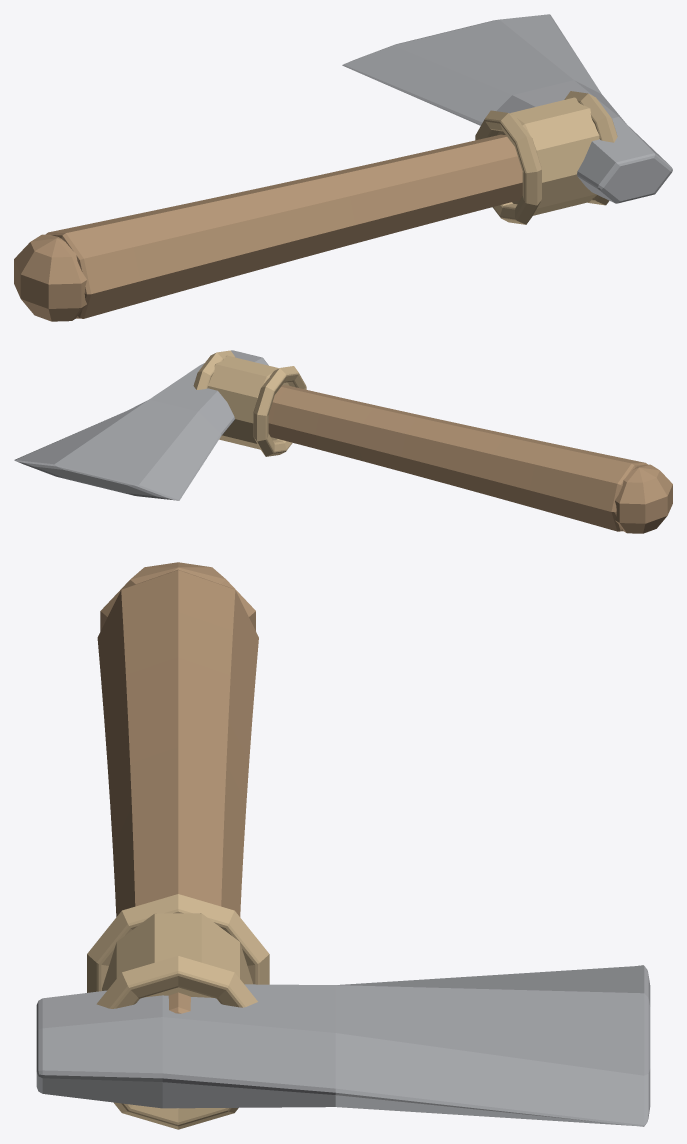
Rendered from 16-Crafting_hacha_piedra.glb.
The picture shows the model from 3 angles, top to bottom: view 1: azimuth 30°, elevation 25°; view 2: azimuth 150°, elevation 25°; view 3: azimuth 270°, elevation 25°; orthographic projection. The views are drawn at different scales.
Parts seen in each view (by area): view 1: SM_Hacha_M_Madera_Hacha, SM_Hacha_M_Piedra_Hacha, SM_Hacha_M_Cuero_Hacha; view 2: SM_Hacha_M_Madera_Hacha, SM_Hacha_M_Piedra_Hacha, SM_Hacha_M_Cuero_Hacha; view 3: SM_Hacha_M_Piedra_Hacha, SM_Hacha_M_Madera_Hacha, SM_Hacha_M_Cuero_Hacha.
Part boxes in pixels (box(x1,y1,x2,y2)): SM_Hacha_M_Madera_Hacha: box(14, 134, 522, 321); SM_Hacha_M_Piedra_Hacha: box(342, 14, 672, 203); SM_Hacha_M_Cuero_Hacha: box(475, 91, 617, 224); SM_Hacha_M_Madera_Hacha: box(268, 385, 672, 533); SM_Hacha_M_Piedra_Hacha: box(14, 350, 268, 500); SM_Hacha_M_Cuero_Hacha: box(193, 350, 306, 456); SM_Hacha_M_Piedra_Hacha: box(36, 965, 650, 1126); SM_Hacha_M_Madera_Hacha: box(97, 562, 258, 1013); SM_Hacha_M_Cuero_Hacha: box(87, 894, 269, 1129).
Size of the model in its own units: 0.7886 by 0.122 by 0.39.
